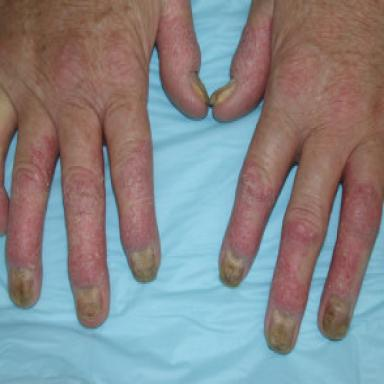eczema: (319, 162, 383, 339), (62, 138, 109, 326), (6, 134, 57, 305), (220, 144, 281, 286), (265, 211, 318, 353), (109, 139, 161, 282), (209, 24, 273, 109), (156, 10, 209, 104)
